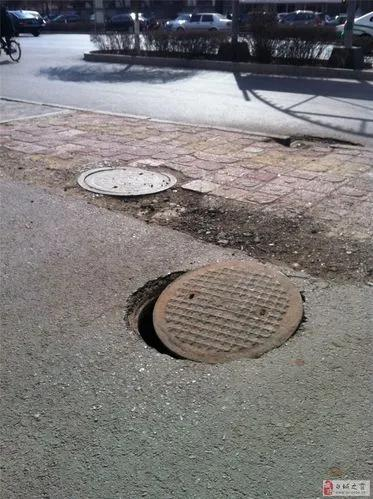wellcover: (116, 255, 327, 364), (76, 155, 206, 203)
